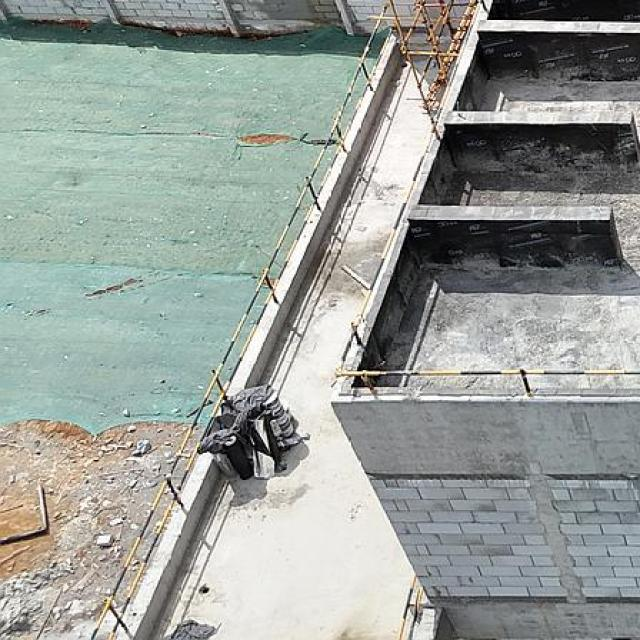edge_guardrail: (87, 0, 406, 640), (333, 1, 640, 399)
